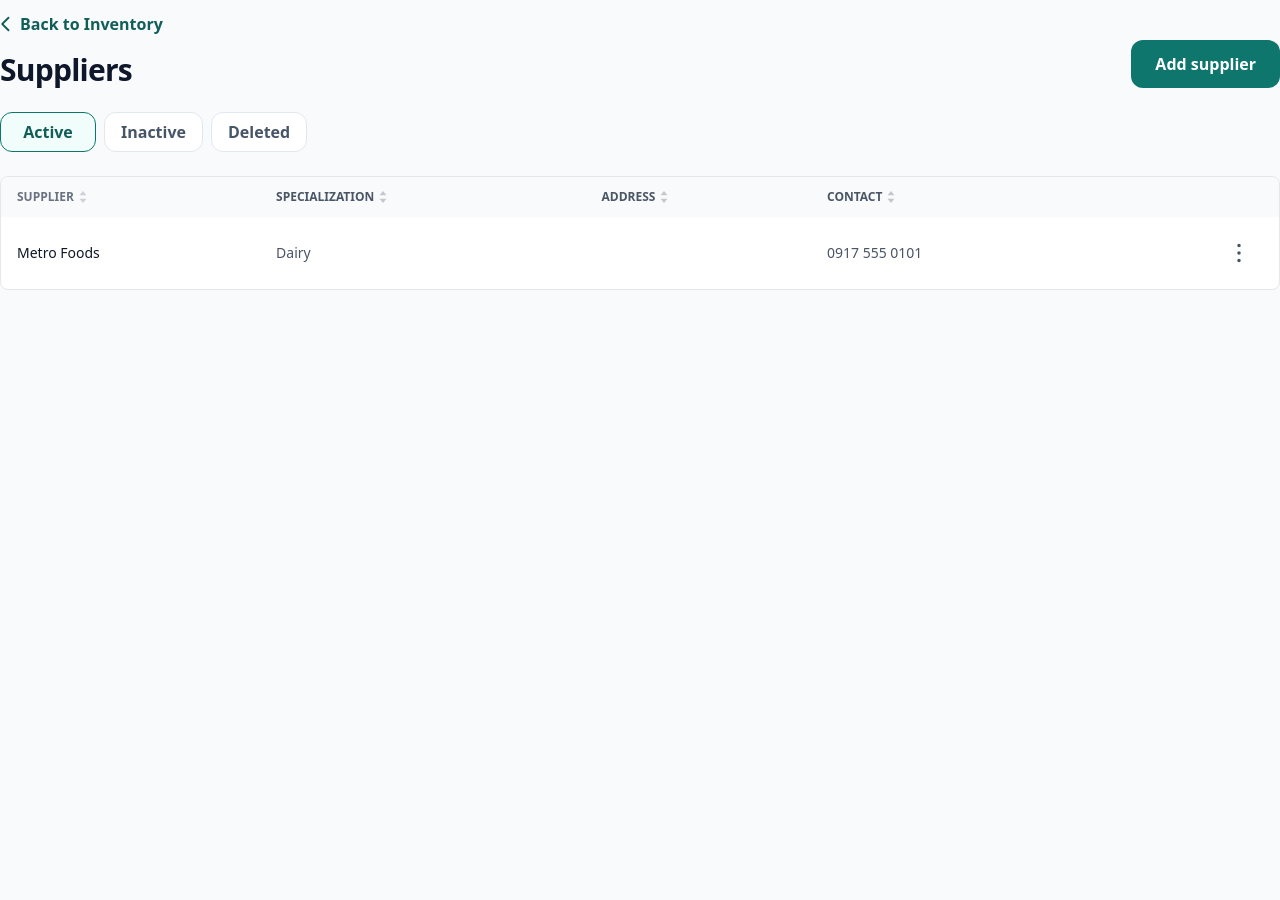
it: SuppliersPage › requires a name
This screenshot has width=1280, height=900.
Expected: the button "Metro Foods" is shown, [17,243,100,263]
Click the button "Add supplier": (1206, 64) [1131,40,1279,88]
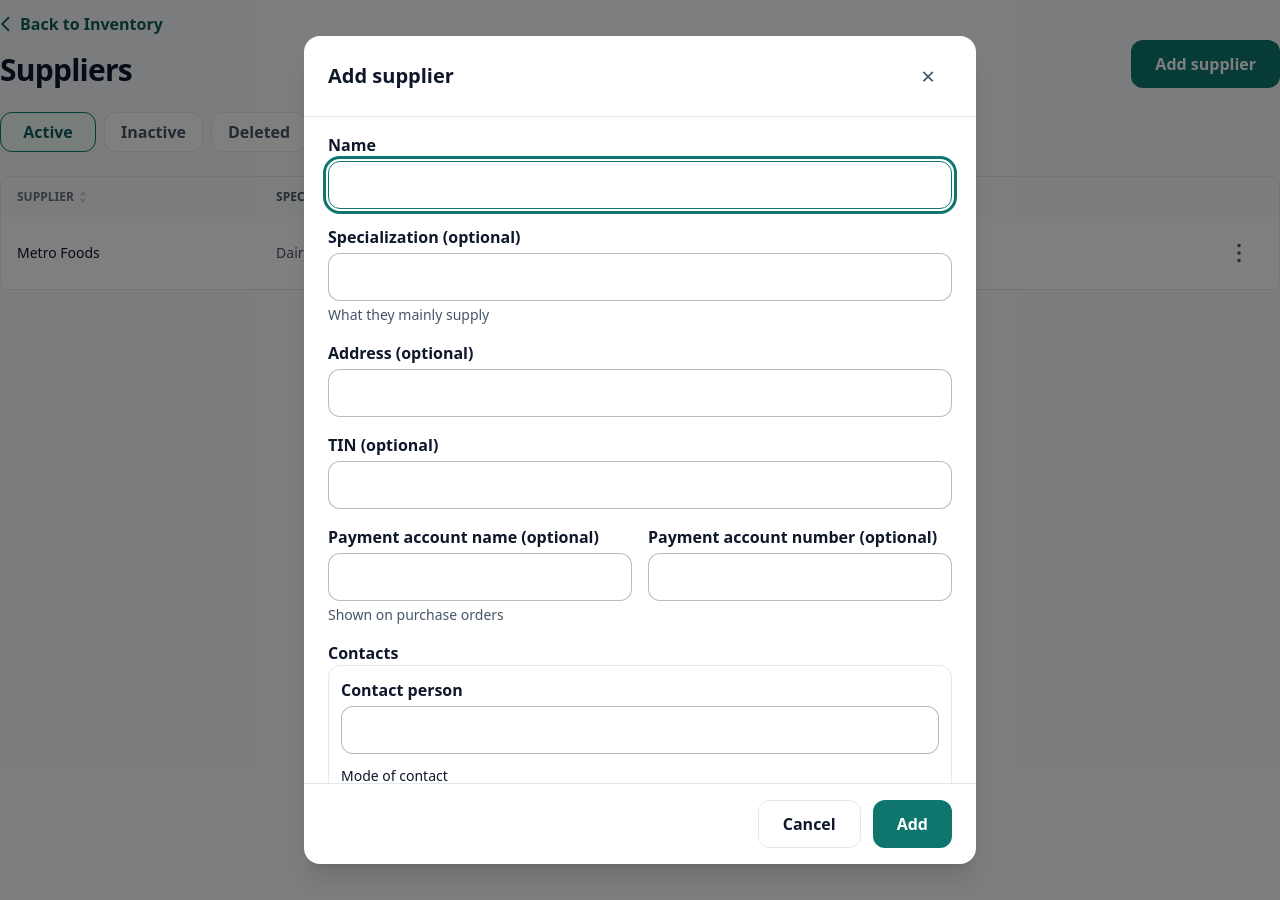
Click the button "Add": (912, 824) [873,800,952,848]
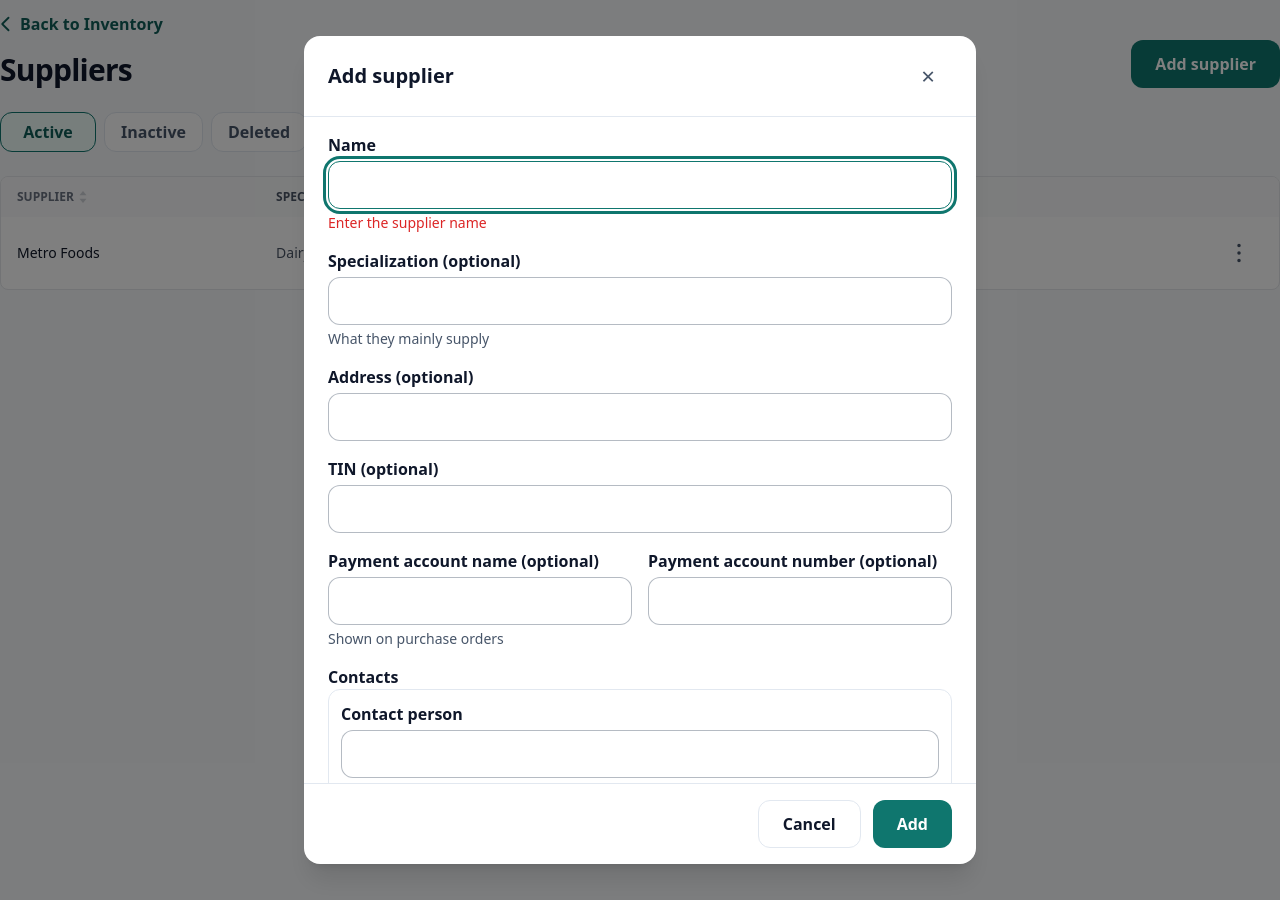
Result: the text "Enter the supplier name" is shown at [328,213,487,232]
